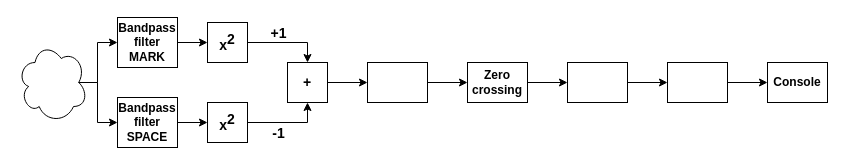
Image size: 845x165. Some labels were removed from this diagram. The shapes that lost their labels are listed below. From the top down, each one's box as (x1, y1, x2, y2) in pixels, then its label:
(16, 42, 88, 122): Audio input
(366, 62, 428, 102): Lowpass filter
(566, 62, 628, 102): Bit recovery
(666, 62, 728, 102): Character recovery
